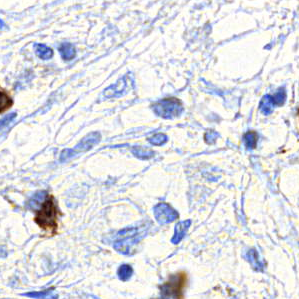Lymphocyte: (35, 193, 63, 234)
